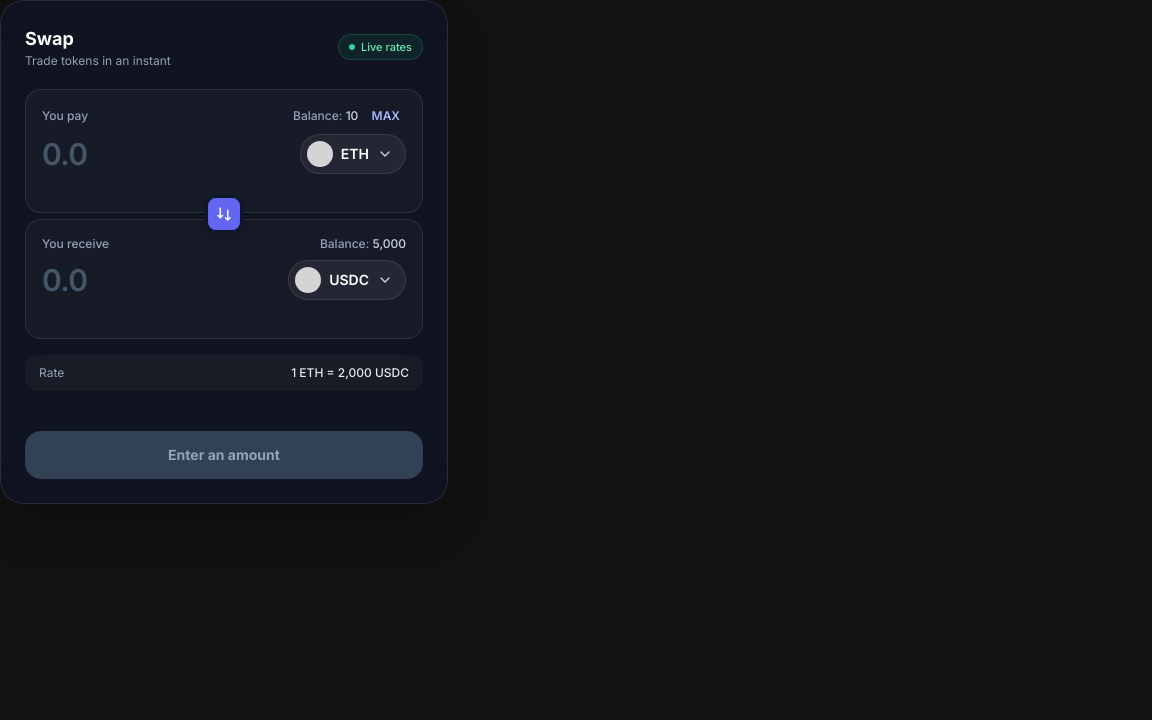
Scenario: SwapForm › lets the user pick a new pay token, with the opposite token disabled
Click the button with aria-label "You pay token: ETH" at (353, 154), box left=300, top=134, right=406, bottom=174
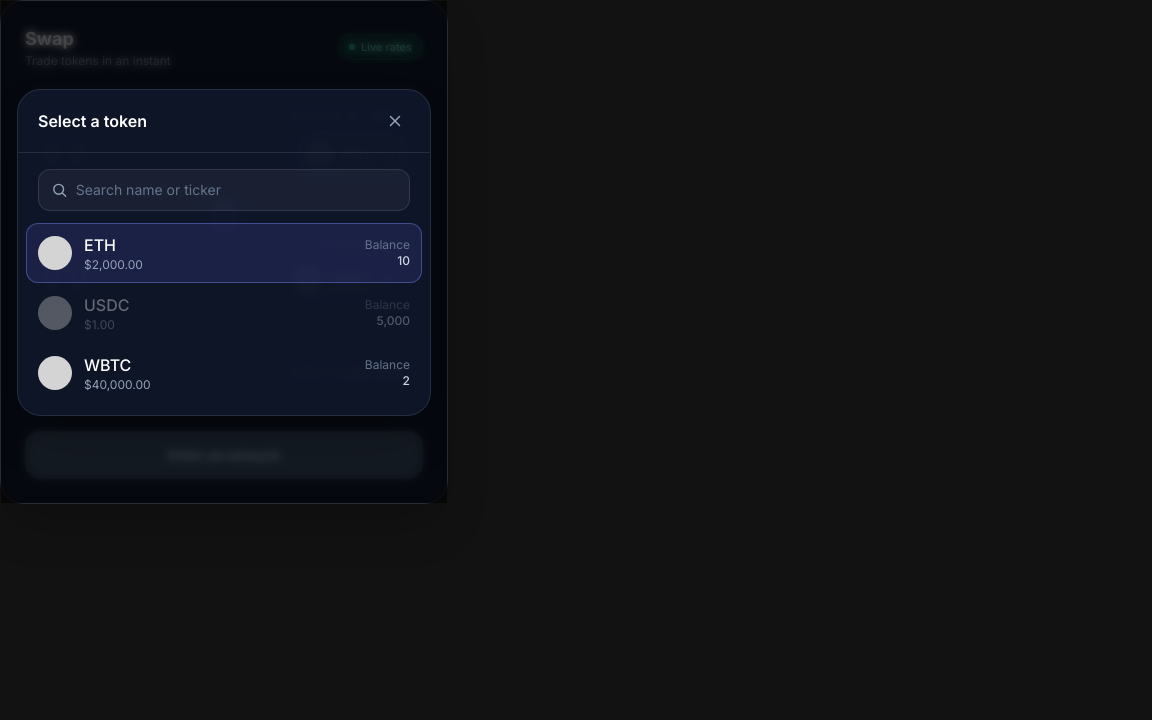
Check: the button "USDC $1.00 Balance 5,000" is disabled, box left=26, top=282, right=422, bottom=342
Click the button "WBTC $40,000.00 Balance 2" at (55, 372), box left=26, top=342, right=422, bottom=402
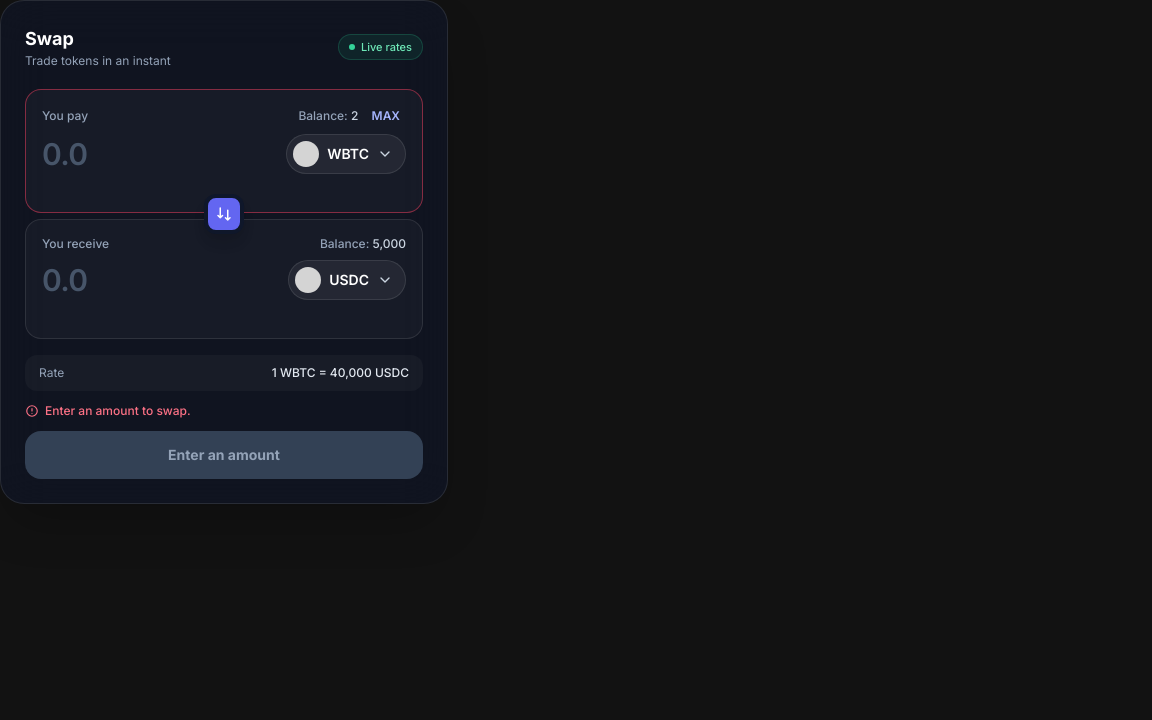
Check: the button with aria-label "You pay token: WBTC" is shown, box left=286, top=134, right=406, bottom=174
